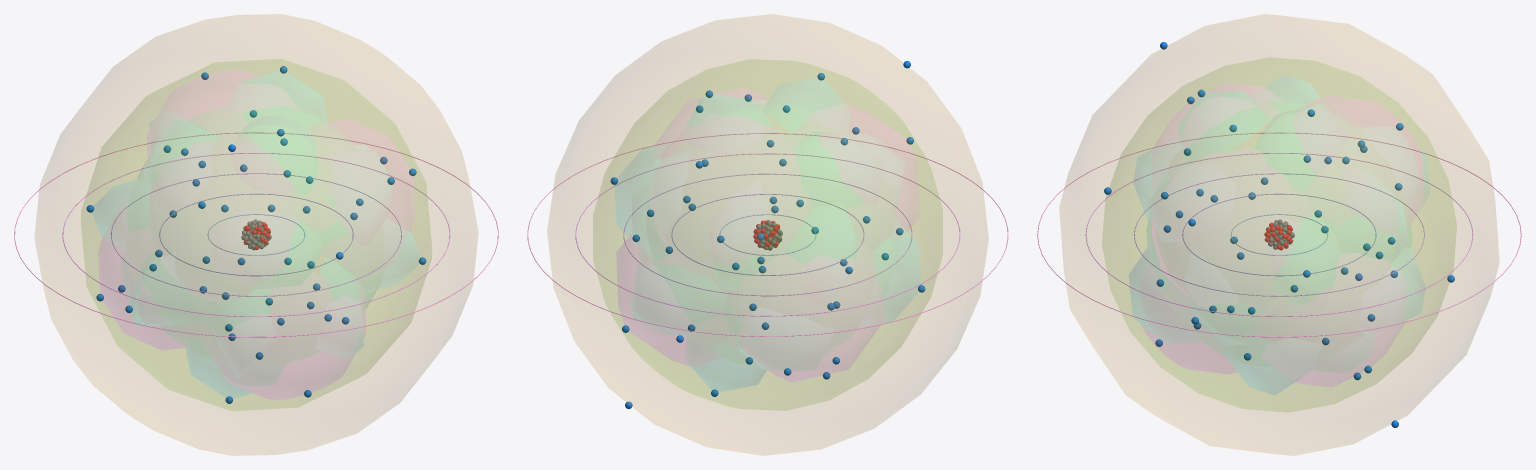
3 views of the same model, side by side, from view 1: azimuth 30°, elevation 25°; view 2: azimuth 150°, elevation 25°; view 3: azimuth 270°, elevation 25° (orthographic).
Visible parts, largest first — view 1: Orbital_5s_0, Orbital_4s_0, Orbital_4p_0, Orbital_4p_2, Orbital_4d_2, Orbital_4d_4, Nivel_n5, Nivel_n4, Nivel_n3, Orbital_4d_1, Orbital_4d_0, Nivel_n2; view 2: Orbital_5s_0, Orbital_4s_0, Orbital_4p_1, Orbital_4d_3, Orbital_4d_0, Orbital_4p_0, Nivel_n5, Nivel_n4, Orbital_4d_2, Orbital_4d_4, Nivel_n3, Nivel_n2; view 3: Orbital_5s_0, Orbital_4s_0, Orbital_4p_2, Orbital_4d_1, Orbital_4p_1, Orbital_4d_2, Nivel_n5, Nivel_n4, Orbital_4d_3, Nivel_n3, Orbital_4d_4, Nivel_n2 (+1 smaller).
Part boxes in pixels (bbox=[...]): Orbital_5s_0: bbox=[35, 14, 477, 455]; Orbital_4s_0: bbox=[81, 59, 431, 410]; Orbital_4p_0: bbox=[98, 120, 414, 349]; Orbital_4p_2: bbox=[147, 70, 365, 399]; Orbital_4d_2: bbox=[186, 71, 326, 398]; Orbital_4d_4: bbox=[92, 179, 420, 376]; Nivel_n5: bbox=[14, 132, 498, 337]; Nivel_n4: bbox=[62, 153, 450, 316]; Nivel_n3: bbox=[111, 173, 401, 296]; Orbital_4d_1: bbox=[143, 120, 390, 191]; Orbital_4d_0: bbox=[239, 116, 315, 151]; Nivel_n2: bbox=[159, 193, 353, 276]; Orbital_5s_0: bbox=[547, 14, 988, 455]; Orbital_4s_0: bbox=[593, 59, 942, 410]; Orbital_4p_1: bbox=[617, 104, 918, 365]; Orbital_4d_3: bbox=[615, 146, 920, 322]; Orbital_4d_0: bbox=[691, 78, 842, 391]; Orbital_4p_0: bbox=[654, 88, 884, 381]; Nivel_n5: bbox=[527, 133, 1008, 336]; Nivel_n4: bbox=[575, 153, 960, 316]; Orbital_4d_2: bbox=[632, 95, 766, 326]; Orbital_4d_4: bbox=[632, 159, 661, 258]; Nivel_n3: bbox=[623, 173, 912, 296]; Nivel_n2: bbox=[671, 194, 864, 275]; Orbital_5s_0: bbox=[1060, 14, 1498, 455]; Orbital_4s_0: bbox=[1102, 58, 1456, 411]; Orbital_4p_2: bbox=[1142, 96, 1422, 373]; Orbital_4d_1: bbox=[1147, 75, 1320, 394]; Orbital_4p_1: bbox=[1152, 83, 1404, 386]; Orbital_4d_2: bbox=[1134, 103, 1424, 320]; Nivel_n5: bbox=[1037, 132, 1521, 337]; Nivel_n4: bbox=[1085, 153, 1473, 316]; Orbital_4d_3: bbox=[1129, 148, 1429, 333]; Nivel_n3: bbox=[1134, 173, 1424, 296]; Orbital_4d_4: bbox=[1185, 182, 1408, 345]; Nivel_n2: bbox=[1182, 193, 1376, 276].
Size of the model in its own units: 1.5 by 1.38 by 1.5.
